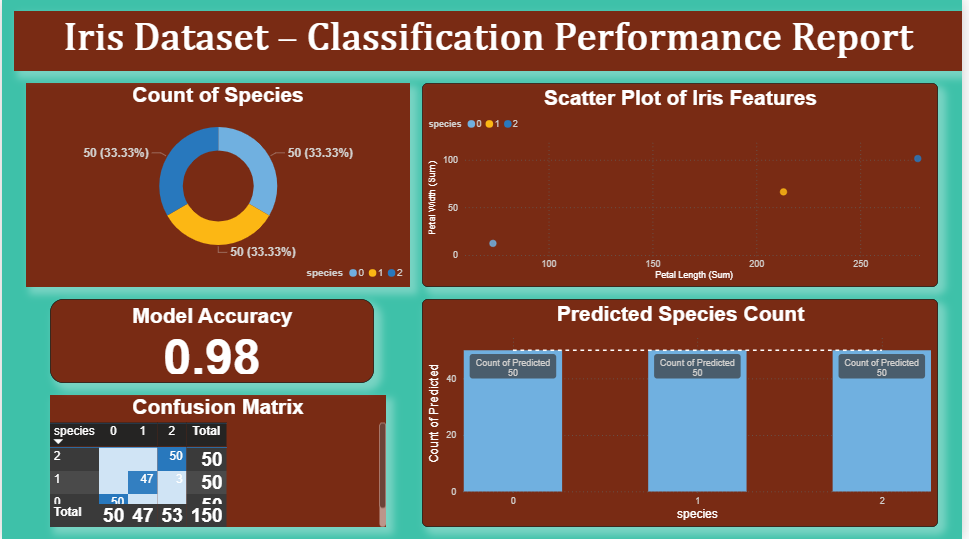

What the dashboard file says about the page in this screenshot:
{"tool":"powerbi","page":{"name":"Page 1","canvas":[1280,720],"ordinal":0},"visuals":[{"type":"scatterChart","title":"Scatter Plot of Iris Features","fields":{"Series":["iris_cleaned.species"],"X":["Sum(iris_cleaned.petal_length)"],"Y":["Sum(iris_cleaned.petal_width)"]},"box":[560,112,688,272],"z":0},{"type":"donutChart","title":"Count of Species","fields":{"Category":["iris_cleaned.species"],"Y":["CountNonNull(iris_cleaned.species)"]},"box":[32,112,512,272],"z":500},{"type":"lineClusteredColumnComboChart","title":"Predicted Species Count","fields":{"Category":["iris_model_output.species"],"Y":["CountNonNull(iris_model_output.Predicted)"]},"box":[560,400,688,304],"z":1000},{"type":"pivotTable","title":"Confusion Matrix","fields":{"Columns":["iris_model_output.Predicted"],"Rows":["iris_model_output.species"],"Values":["CountNonNull(iris_model_output.Predicted)"]},"box":[64,528,448,176],"z":3000},{"type":"card","title":"Model Accuracy","fields":{"Values":["iris_model_output.Accuracy"]},"box":[64,400,432,112],"z":4000},{"type":"textbox","box":[16,16,1264,80],"z":4001}]}

Visuals, with their boxes in screenshot pixels (x1, y1, x2, y2), scaled from the page's 1280x720 canvas onto the 969x539 screenshot:
"Scatter Plot of Iris Features" scatterChart: bbox=(424, 84, 945, 287)
"Count of Species" donutChart: bbox=(24, 84, 412, 287)
"Predicted Species Count" lineClusteredColumnComboChart: bbox=(424, 299, 945, 527)
"Confusion Matrix" pivotTable: bbox=(48, 395, 388, 527)
"Model Accuracy" card: bbox=(48, 299, 375, 383)
textbox: bbox=(12, 12, 968, 72)
